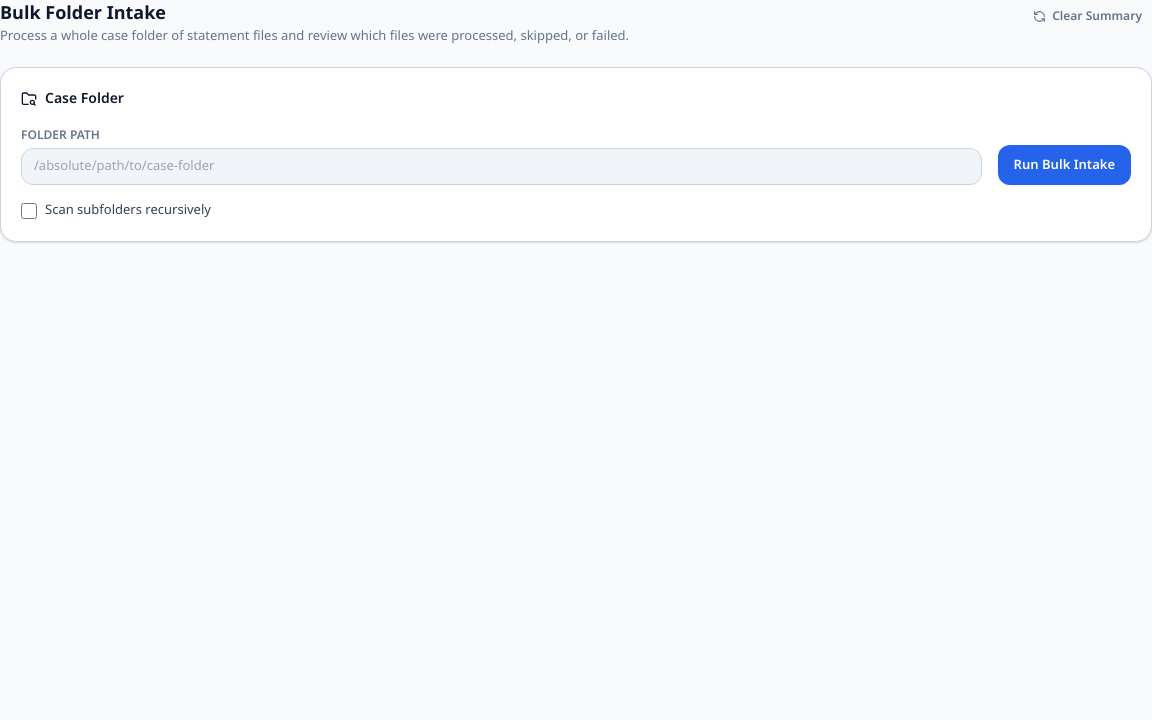
Test: BulkIntake › submits a folder path and renders the returned case summary
Type "/cases/demo" into the field with placeholder "/absolute/path/to/case-folder".
click(501, 167); type("/cases/demo")  # box [21, 148, 982, 185]
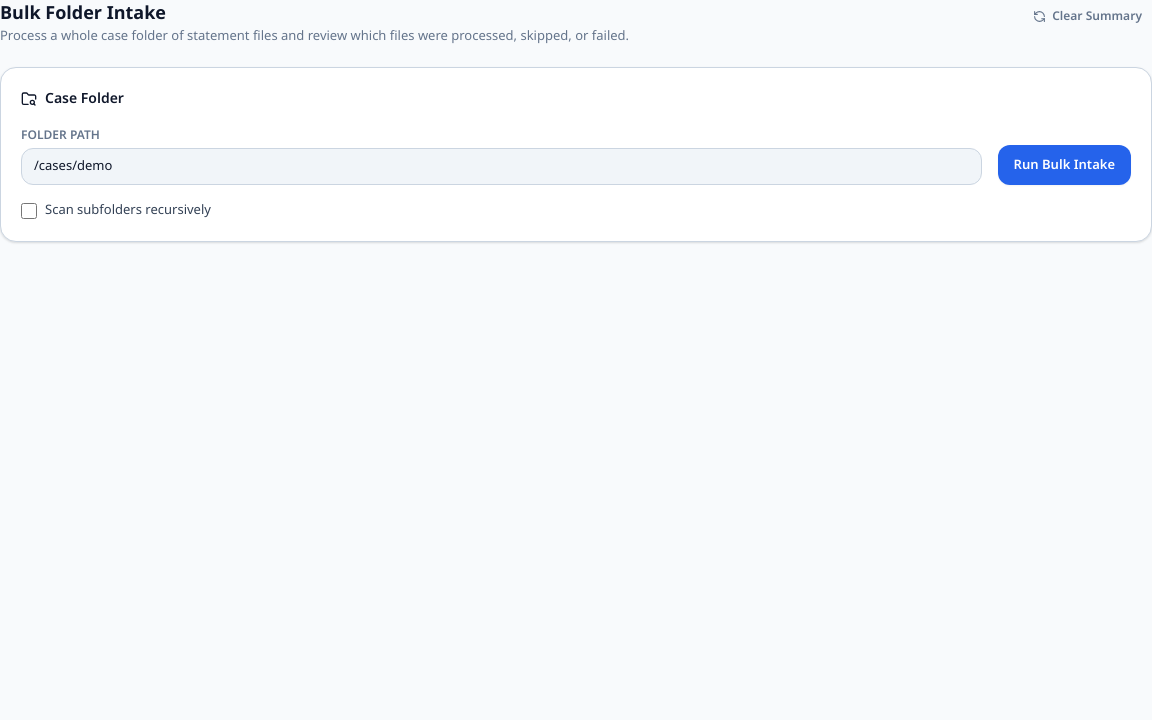
Click the checkbox labelled "Scan subfolders recursively".
click(29, 211)  # box [21, 203, 37, 219]
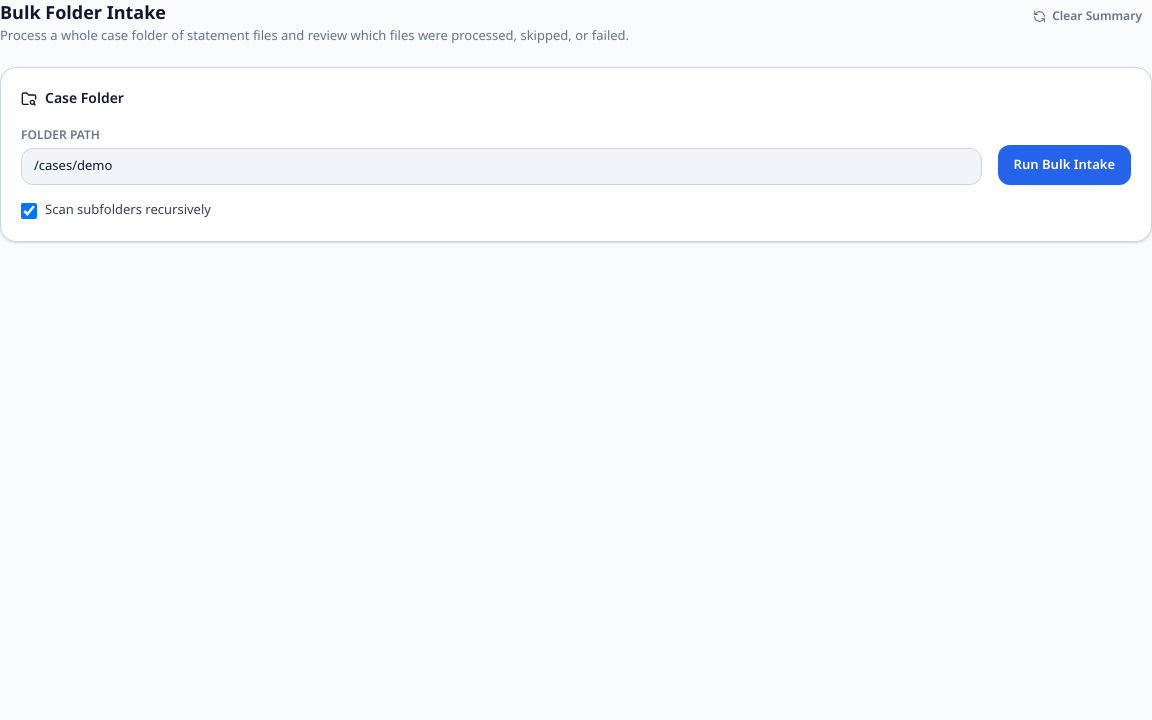
Click the button "Run Bulk Intake".
click(1064, 165)  # box [998, 145, 1131, 185]
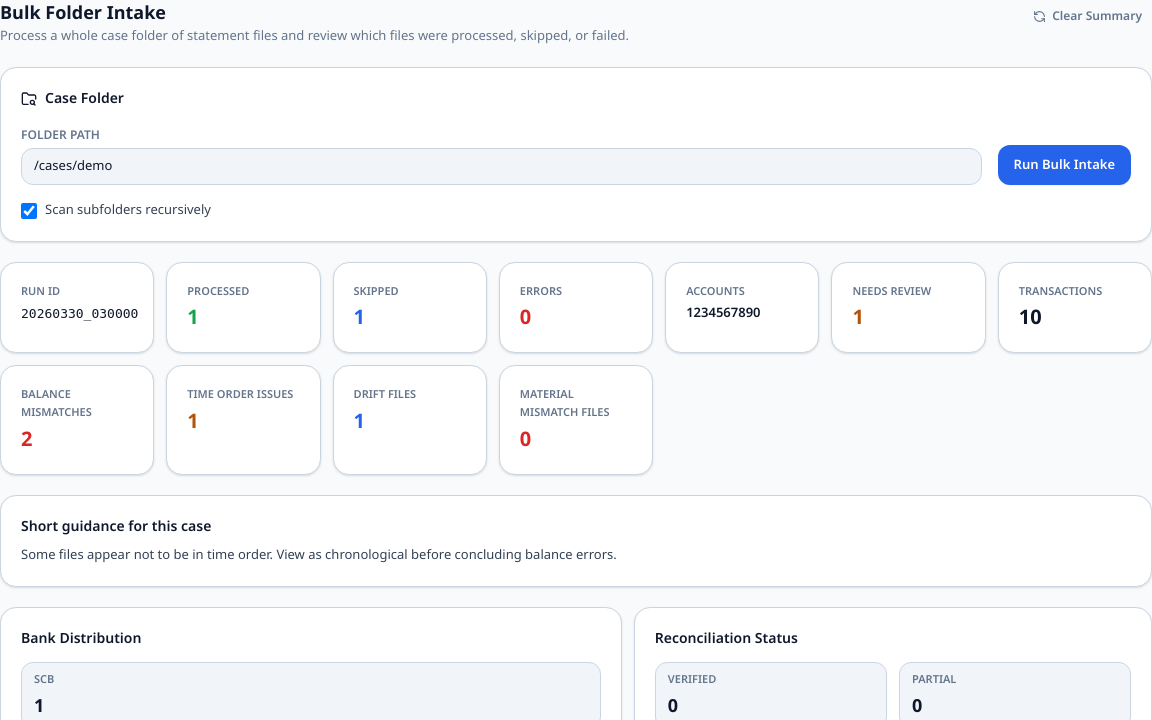
Result: the text "20260330_030000" is shown at [21, 304, 133, 324]
Result: the heading "Short guidance for this case" is shown at [21, 516, 211, 537]
Result: the text "view as chronological before concluding balance errors" is shown at [21, 545, 617, 565]
